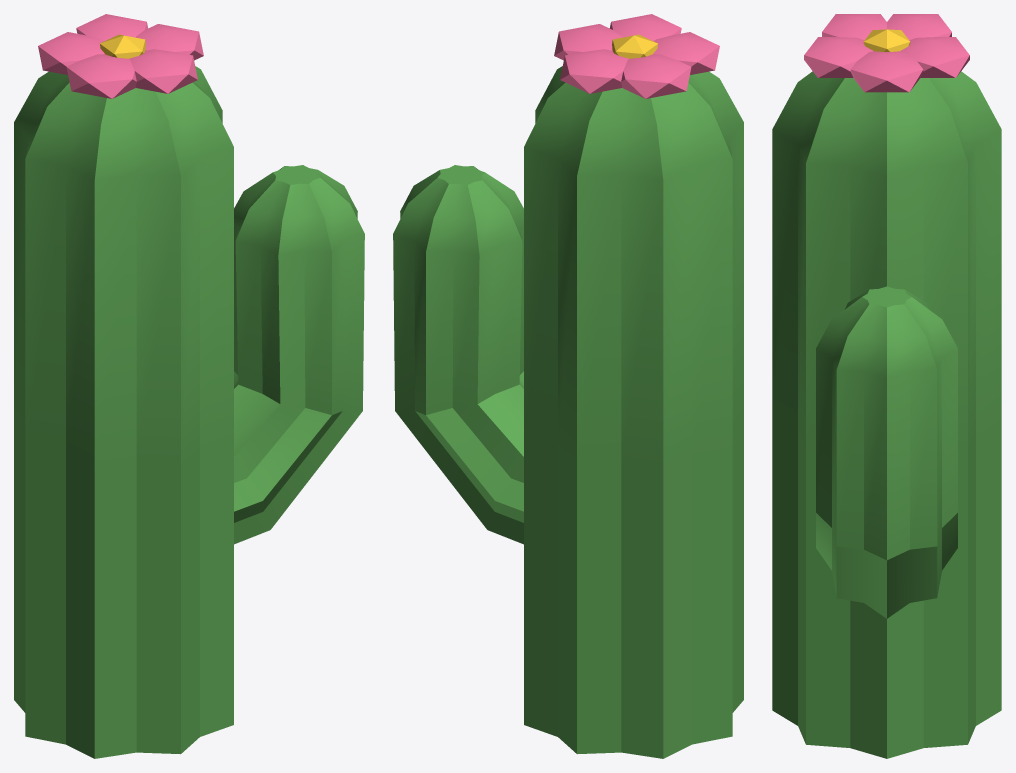
File: Cactus.fbx
The picture shows the model from 3 angles, left to right: view 1: azimuth 30°, elevation 25°; view 2: azimuth 150°, elevation 25°; view 3: azimuth 270°, elevation 25°; orthographic projection.
Visible parts, largest first — view 1: Cactus_Cactus, Cactus_Petal, Cactus_Pollen; view 2: Cactus_Cactus, Cactus_Petal, Cactus_Pollen; view 3: Cactus_Cactus, Cactus_Petal, Cactus_Pollen.
Boxes of the visible parts, x1,y1,x2,y2 form: Cactus_Cactus: (14,66,364,758); Cactus_Petal: (38,14,203,98); Cactus_Pollen: (100,34,145,58); Cactus_Cactus: (393,66,743,758); Cactus_Petal: (554,14,719,98); Cactus_Pollen: (612,34,657,58); Cactus_Cactus: (772,71,1001,758); Cactus_Petal: (804,14,969,92); Cactus_Pollen: (863,29,910,51).
Size of the model in its own units: 253 by 492 by 150.
